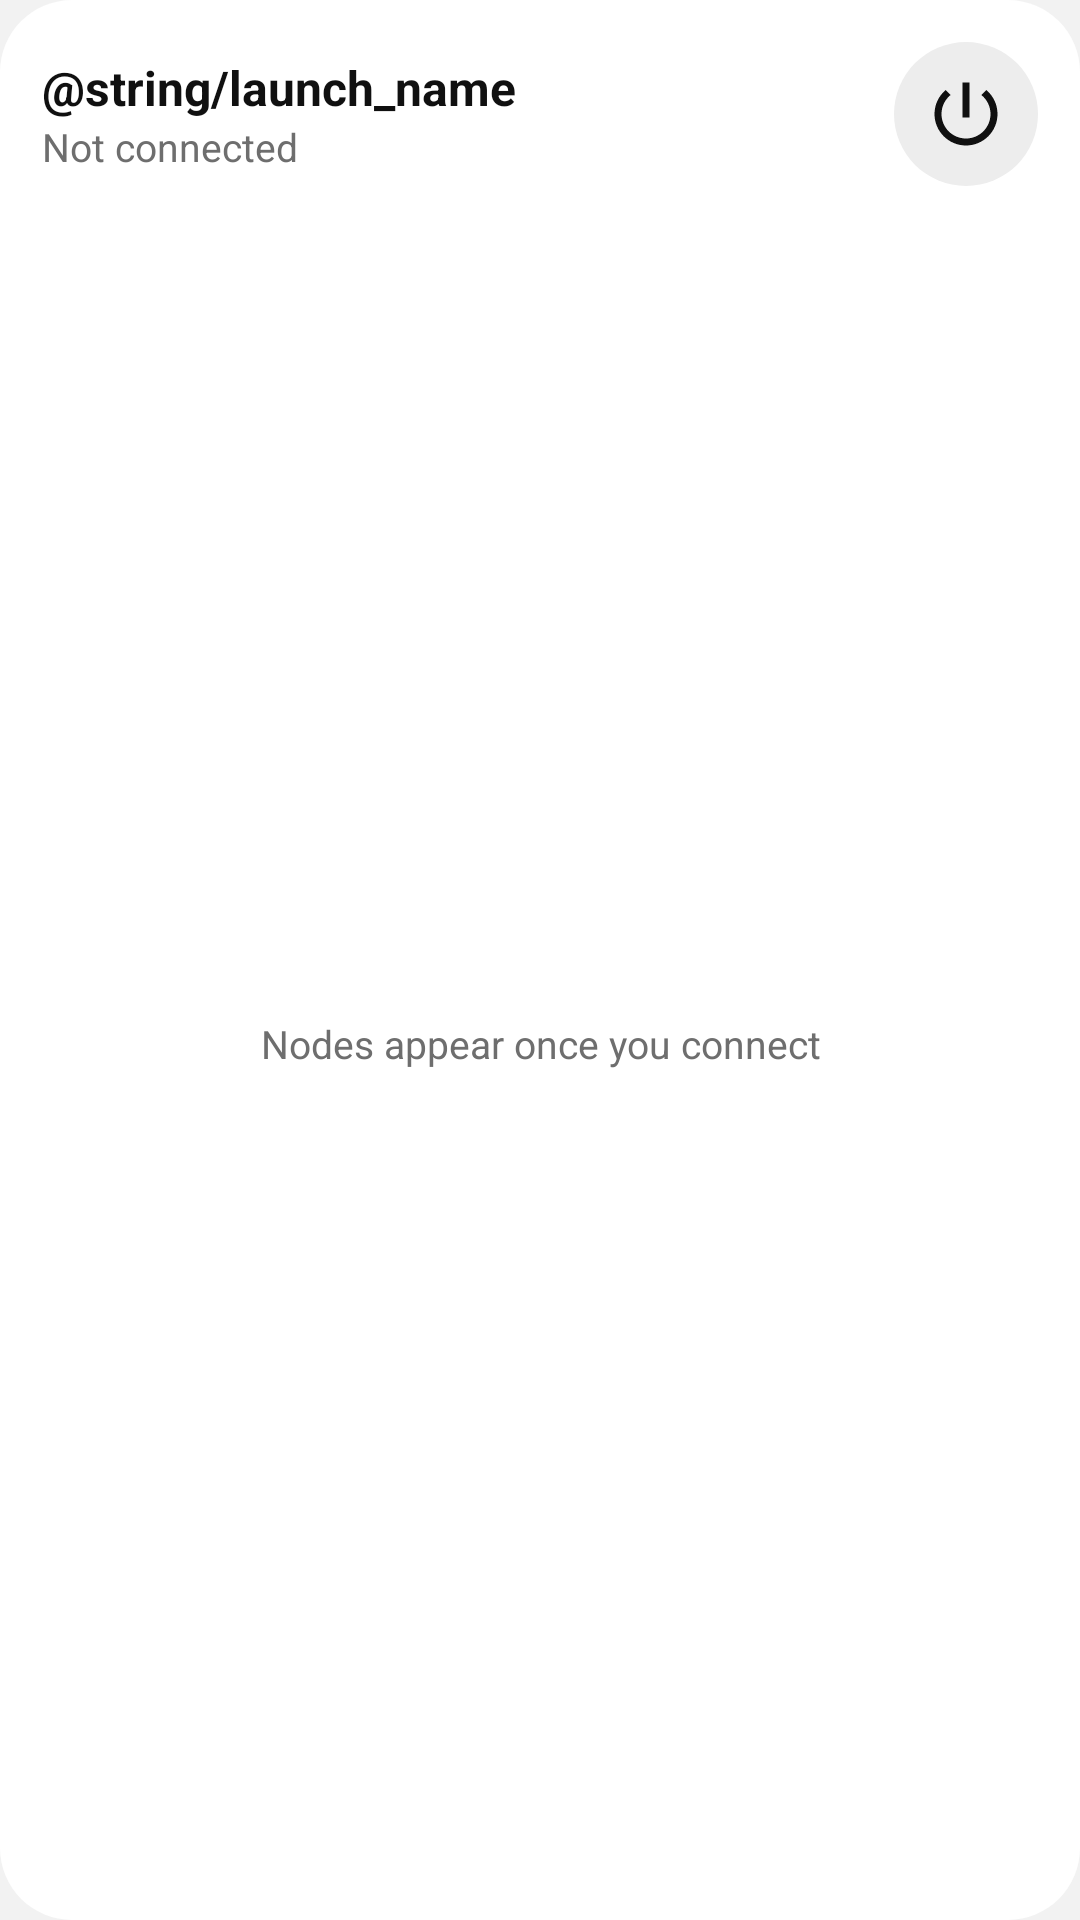

Where to tap for icons on this 1080px×1920px app screen, as (x,y):
Turn VPN on or off: (966,114)
